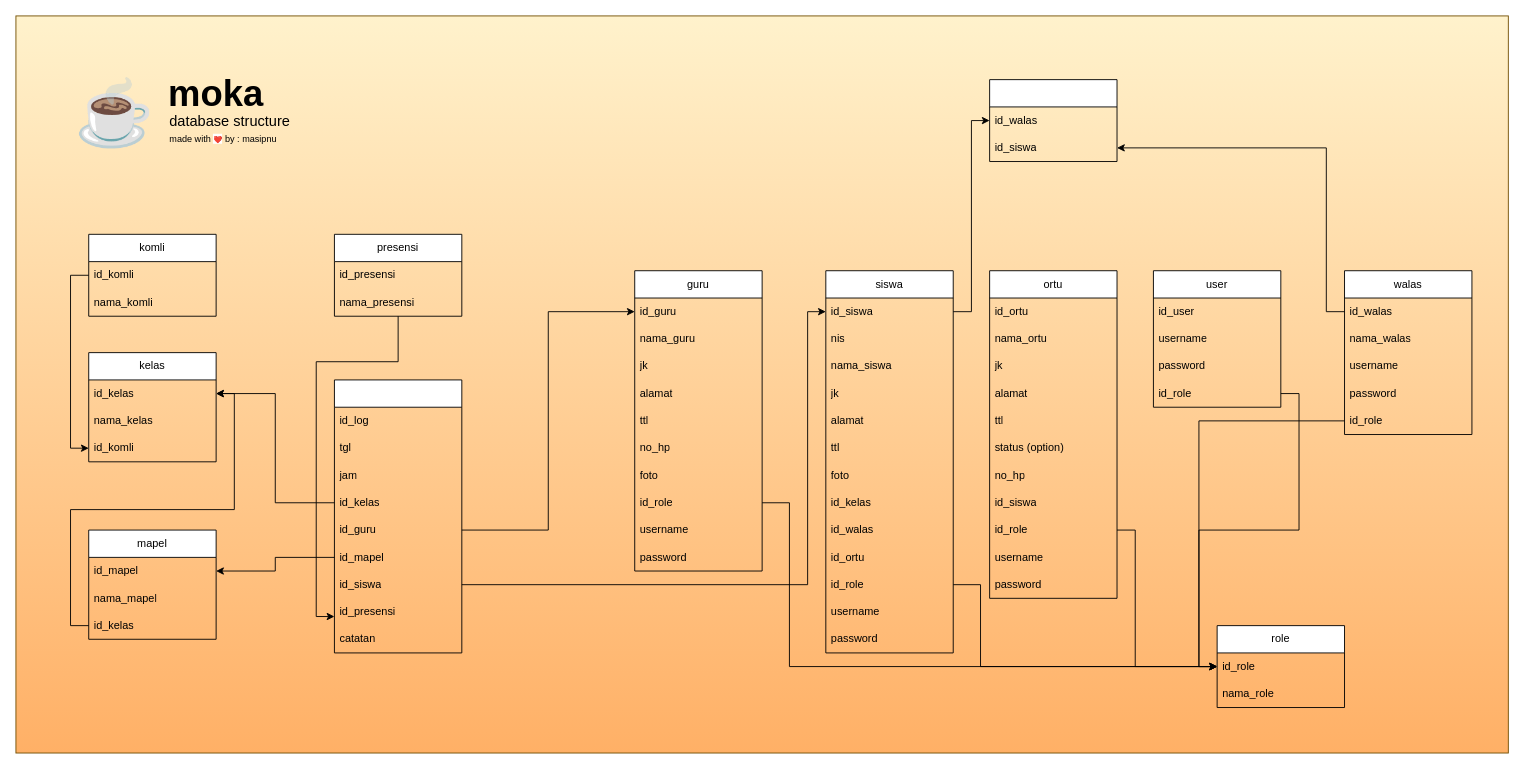
This 1524x769 diagram has some shape labels left out. Each missing label, with the box of its shape:
log_presensi: (334, 379, 462, 653)
rel_walas_siswa: (989, 79, 1117, 162)
